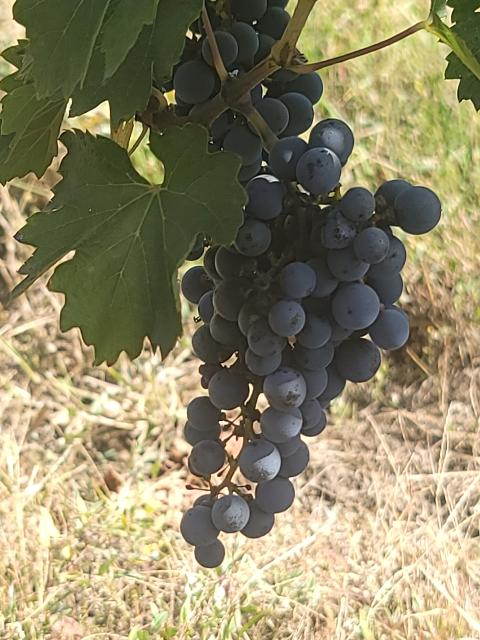grapes: (181, 119, 440, 568)
